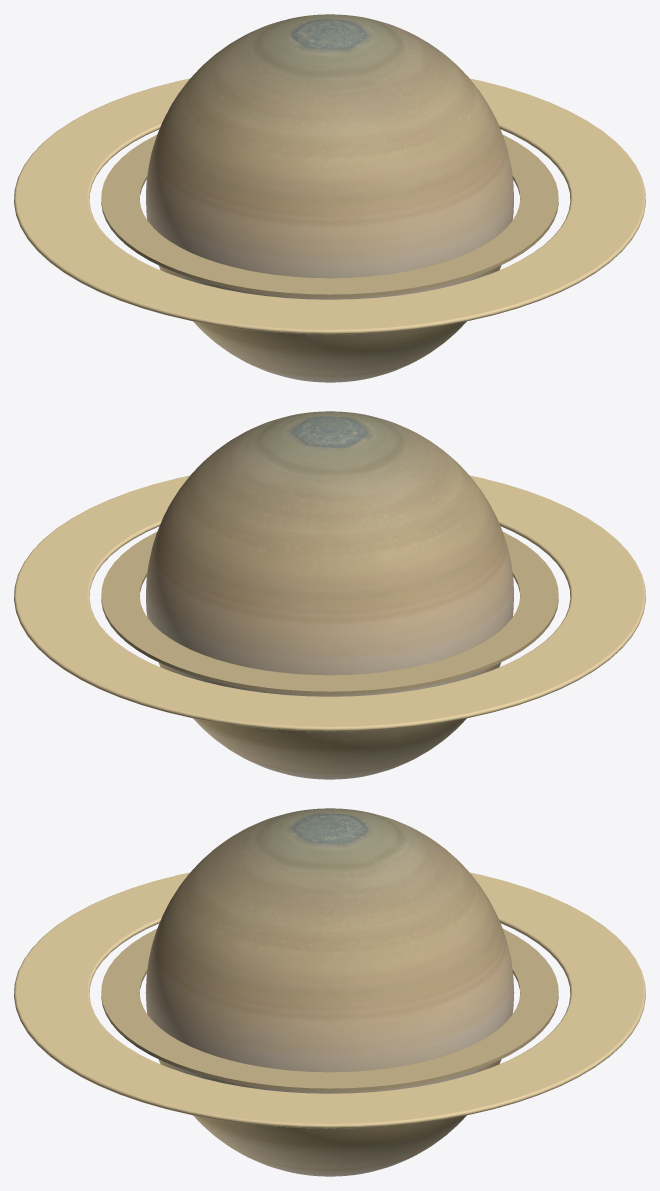
Rendered from Saturn.glb.
3 renders of one model, top to bottom at view 1: azimuth 30°, elevation 25°; view 2: azimuth 150°, elevation 25°; view 3: azimuth 270°, elevation 25°, orthographic.
Visible parts, largest first — view 1: Sphere.7, Tube.1, Tube; view 2: Sphere.7, Tube.1, Tube; view 3: Sphere.7, Tube.1, Tube.
Part boxes in pixels (x1,y1,x2,y2): Sphere.7: [146, 14, 513, 382]; Tube.1: [14, 78, 645, 334]; Tube: [101, 135, 558, 297]; Sphere.7: [146, 411, 513, 779]; Tube.1: [14, 475, 645, 731]; Tube: [101, 532, 558, 694]; Sphere.7: [145, 808, 514, 1176]; Tube.1: [14, 872, 645, 1128]; Tube: [101, 929, 558, 1091].
Bounding box in the file's own units: 246 × 144 × 246.
3 materials, 1 textured.
